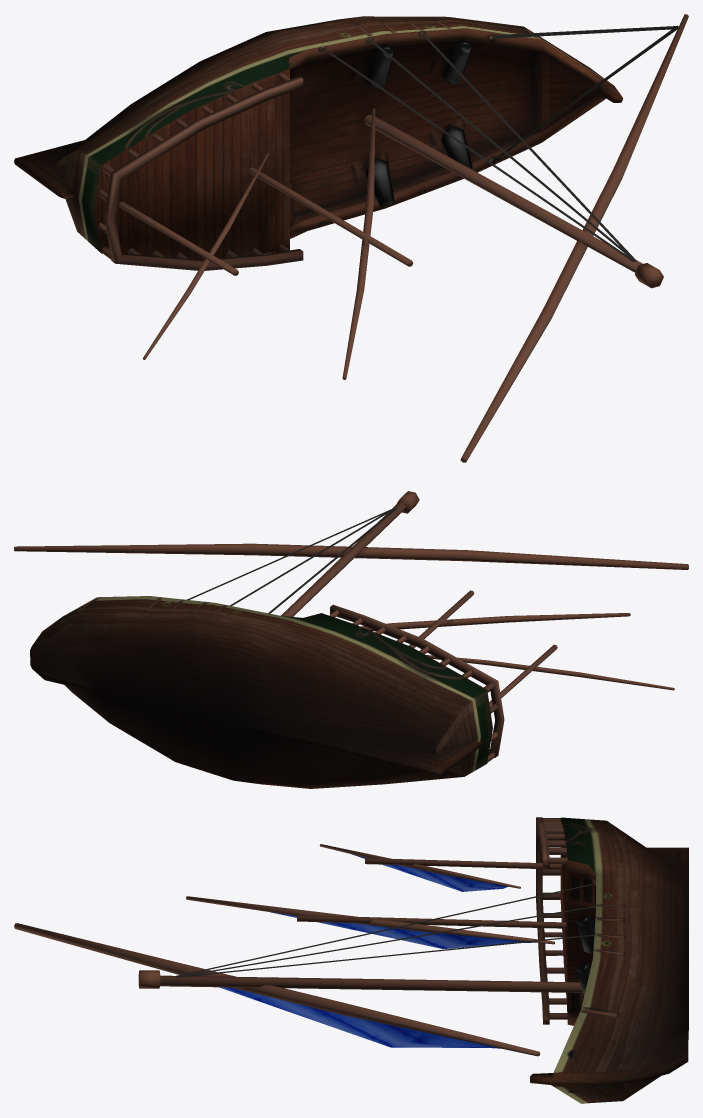
The model's file is 02_barkas_blue.gltf.
3 views of the same model, one above another, from view 1: azimuth 30°, elevation 25°; view 2: azimuth 150°, elevation 25°; view 3: azimuth 270°, elevation 25° (orthographic). The views are drawn at different scales.
Visible parts, largest first — view 1: 02-barkas; view 2: 02-barkas; view 3: 02-barkas.
Boxes of the visible parts, x1=… form: 02-barkas: x1=14, y1=14, x2=688, y2=462; 02-barkas: x1=14, y1=491, x2=688, y2=788; 02-barkas: x1=14, y1=817, x2=688, y2=1103.
Bounding box in the file's own units: 524495 × 139277 × 509176.
